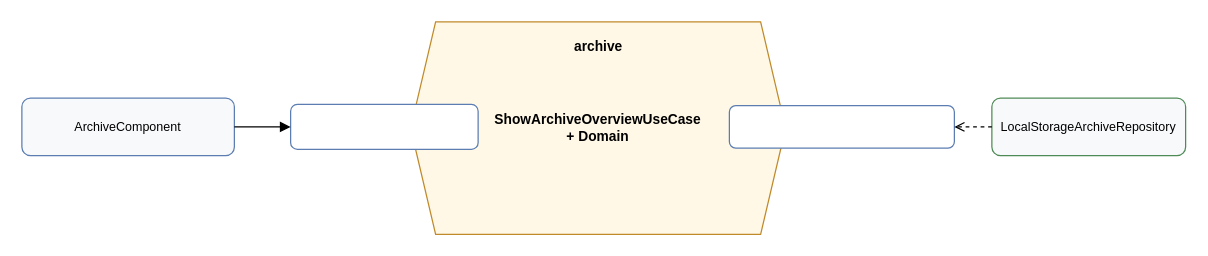
The diagram is 1208 pixels wide and 256 high, and some of its shapes have lost their labels. Each missing label, with the box of its shape:
LoadArchiveEntriesOutPort: (728, 104, 954, 148)
ShowArchiveOverviewInPort: (289, 103, 478, 149)
